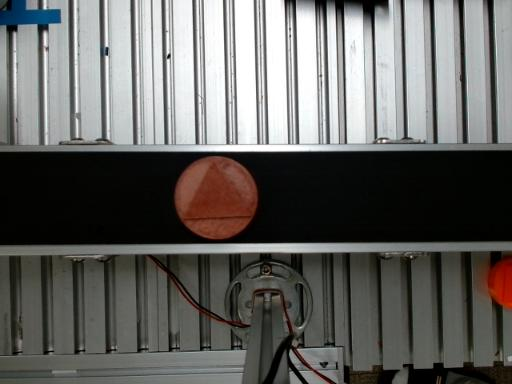Brown_Waper: (174, 156, 258, 239)
Not_Square: (182, 157, 253, 219)
